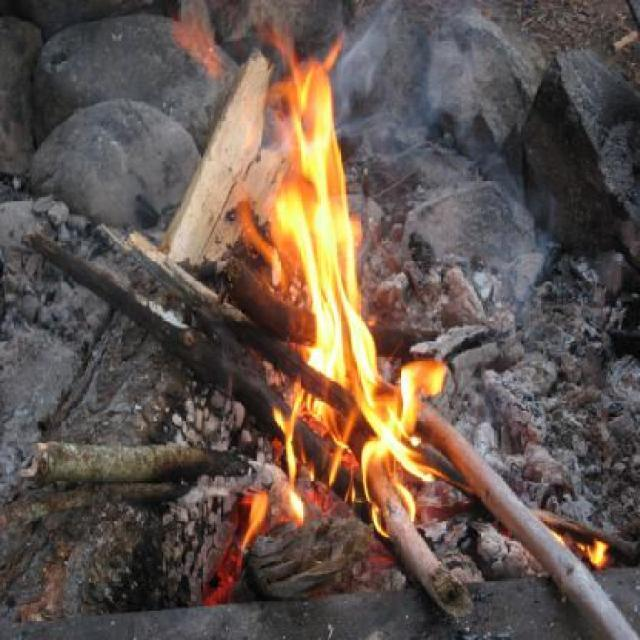Fire: (238, 41, 453, 520)
